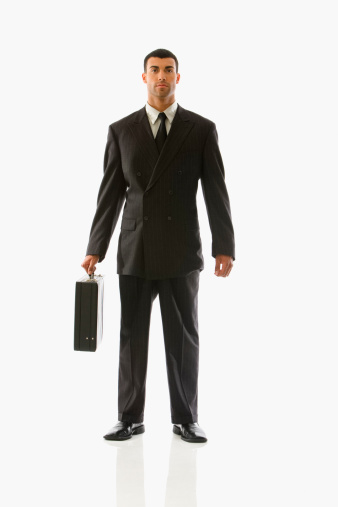em pe: (83, 36, 237, 449)
